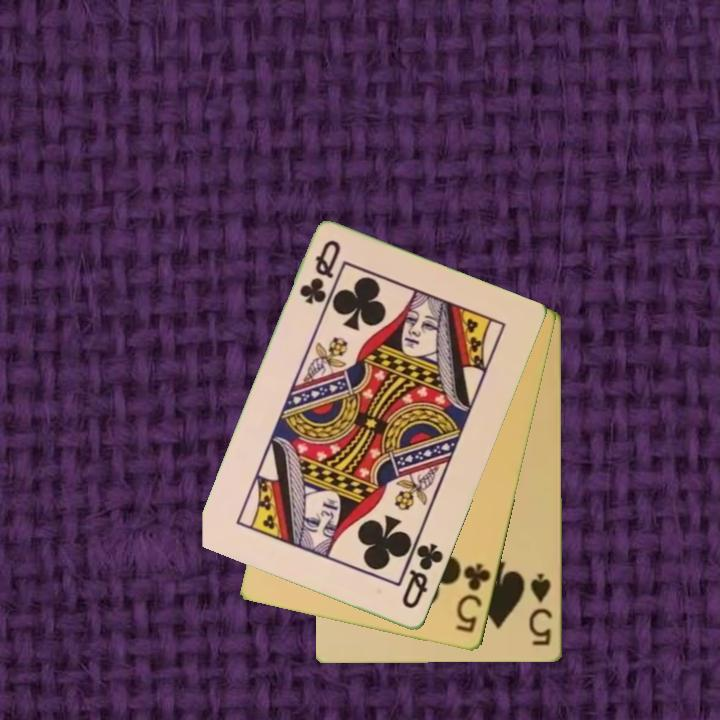5c: (452, 560, 494, 637)
5s: (526, 570, 555, 649)
Qc: (398, 533, 447, 613), (296, 236, 344, 308)
